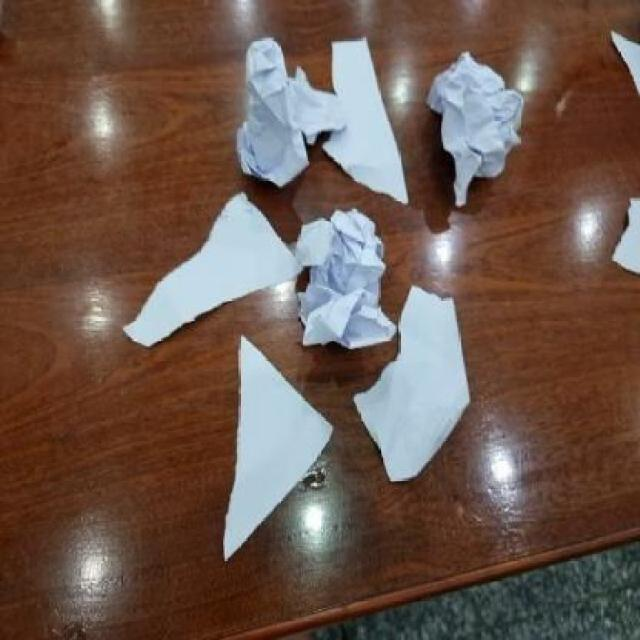trash: (121, 194, 302, 346), (228, 333, 332, 555), (352, 284, 470, 479), (238, 38, 345, 188), (424, 49, 522, 200), (321, 41, 408, 202), (298, 209, 398, 348), (611, 195, 640, 271), (607, 28, 640, 94)
